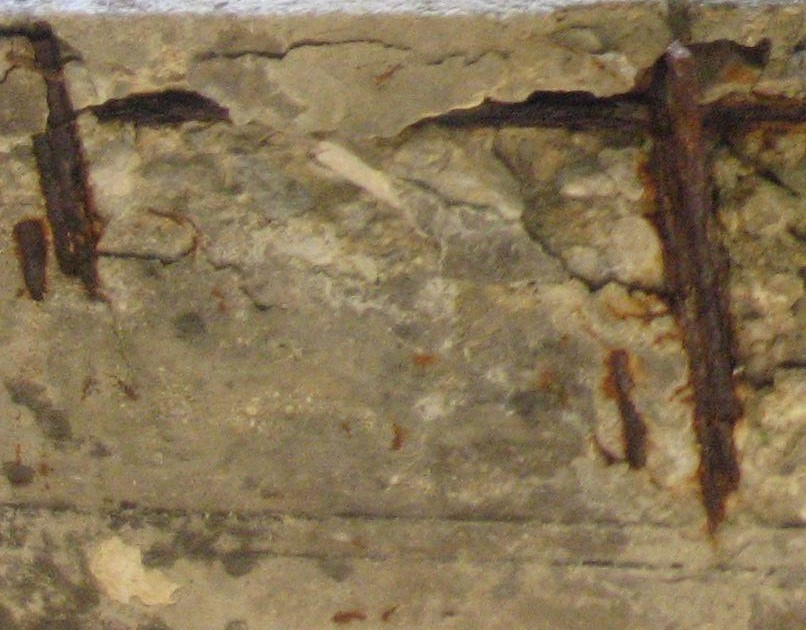Crack: (492, 145, 667, 299), (98, 236, 279, 313), (191, 38, 507, 68), (395, 175, 522, 224)
Exposed reinforcement: (650, 44, 740, 536), (32, 31, 98, 303), (411, 93, 806, 129), (30, 131, 79, 276), (91, 91, 229, 126), (608, 349, 644, 469), (13, 217, 46, 303)
